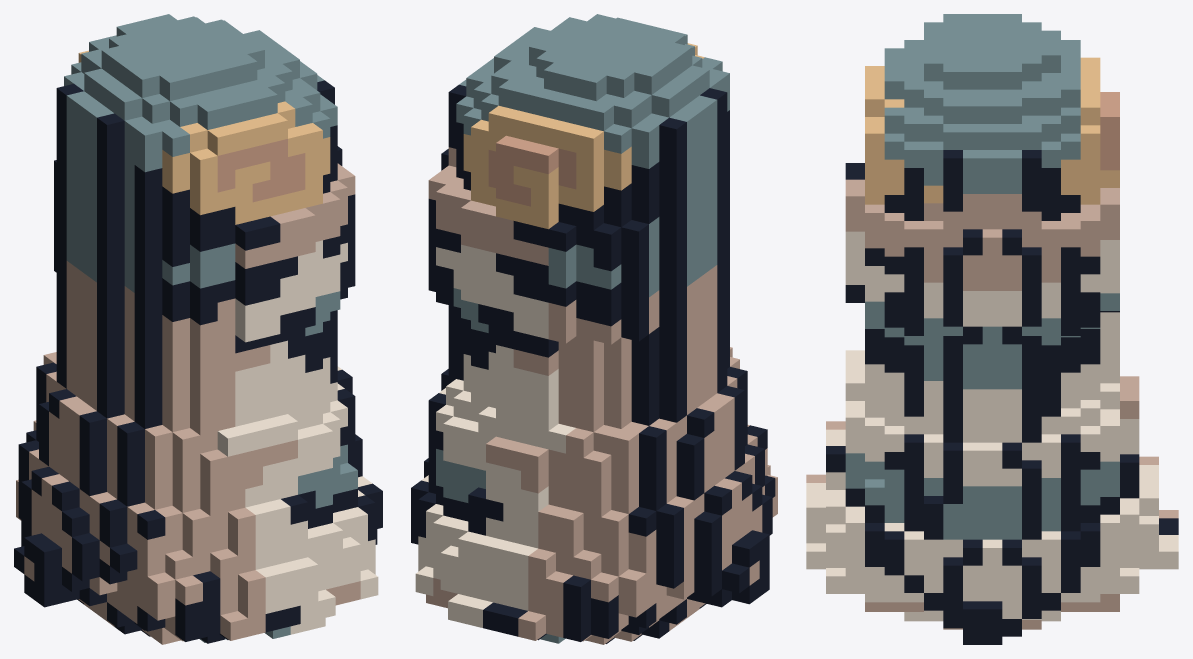
The model's file is Stump3.glb.
The picture shows the model from 3 angles, left to right: view 1: azimuth 30°, elevation 25°; view 2: azimuth 150°, elevation 25°; view 3: azimuth 270°, elevation 25°; orthographic projection. The views are drawn at different scales.
Visible parts, largest first — view 1: q0; view 2: q0; view 3: q0.
Part boxes in pixels (x1,y1,x2,y2): q0: (14, 14, 382, 644); q0: (411, 14, 777, 644); q0: (806, 14, 1178, 644).
Bounding box in the file's own units: 19 × 31 × 19.
1 material, 1 textured.
